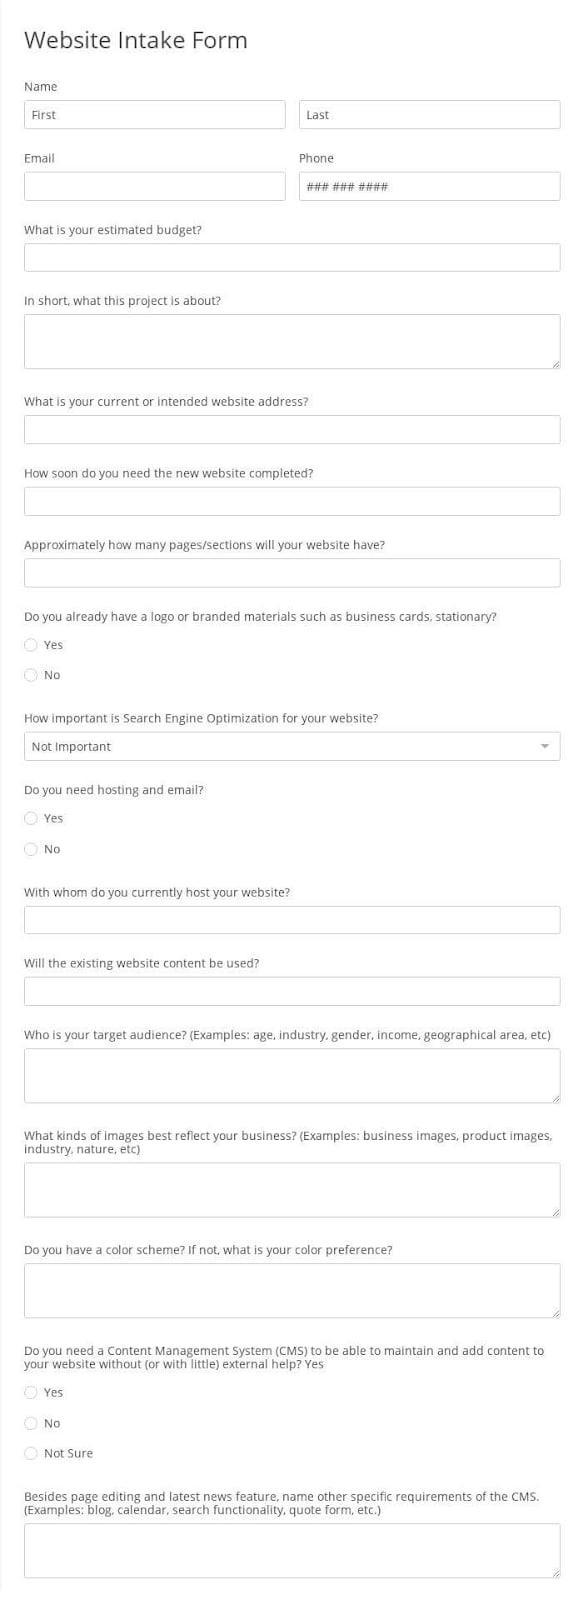dropdown: (25, 733, 562, 762)
input: (25, 978, 562, 1007), (26, 245, 561, 273), (25, 417, 562, 445), (25, 560, 562, 588), (25, 490, 561, 516), (25, 908, 563, 934), (300, 172, 561, 203), (301, 101, 563, 131), (25, 101, 287, 130), (26, 174, 286, 200)
label: (21, 1343, 549, 1374), (21, 1492, 558, 1520), (23, 1131, 556, 1158), (23, 1027, 555, 1046), (23, 610, 498, 628), (22, 538, 391, 555), (23, 1244, 396, 1258), (23, 712, 380, 726), (23, 955, 264, 973), (23, 395, 311, 410), (25, 886, 295, 901), (25, 467, 322, 481), (23, 296, 224, 312), (22, 786, 209, 799), (25, 224, 205, 238), (46, 1449, 98, 1465), (21, 82, 63, 96), (299, 152, 337, 166), (25, 152, 59, 166), (43, 639, 70, 654), (44, 1387, 69, 1401), (42, 841, 63, 857), (44, 1415, 65, 1431), (46, 811, 67, 824), (45, 669, 64, 684)
radio: (23, 637, 40, 655), (25, 840, 40, 858), (25, 811, 40, 827), (25, 667, 39, 684), (25, 1385, 39, 1401), (25, 1416, 39, 1432), (25, 1448, 39, 1462)
